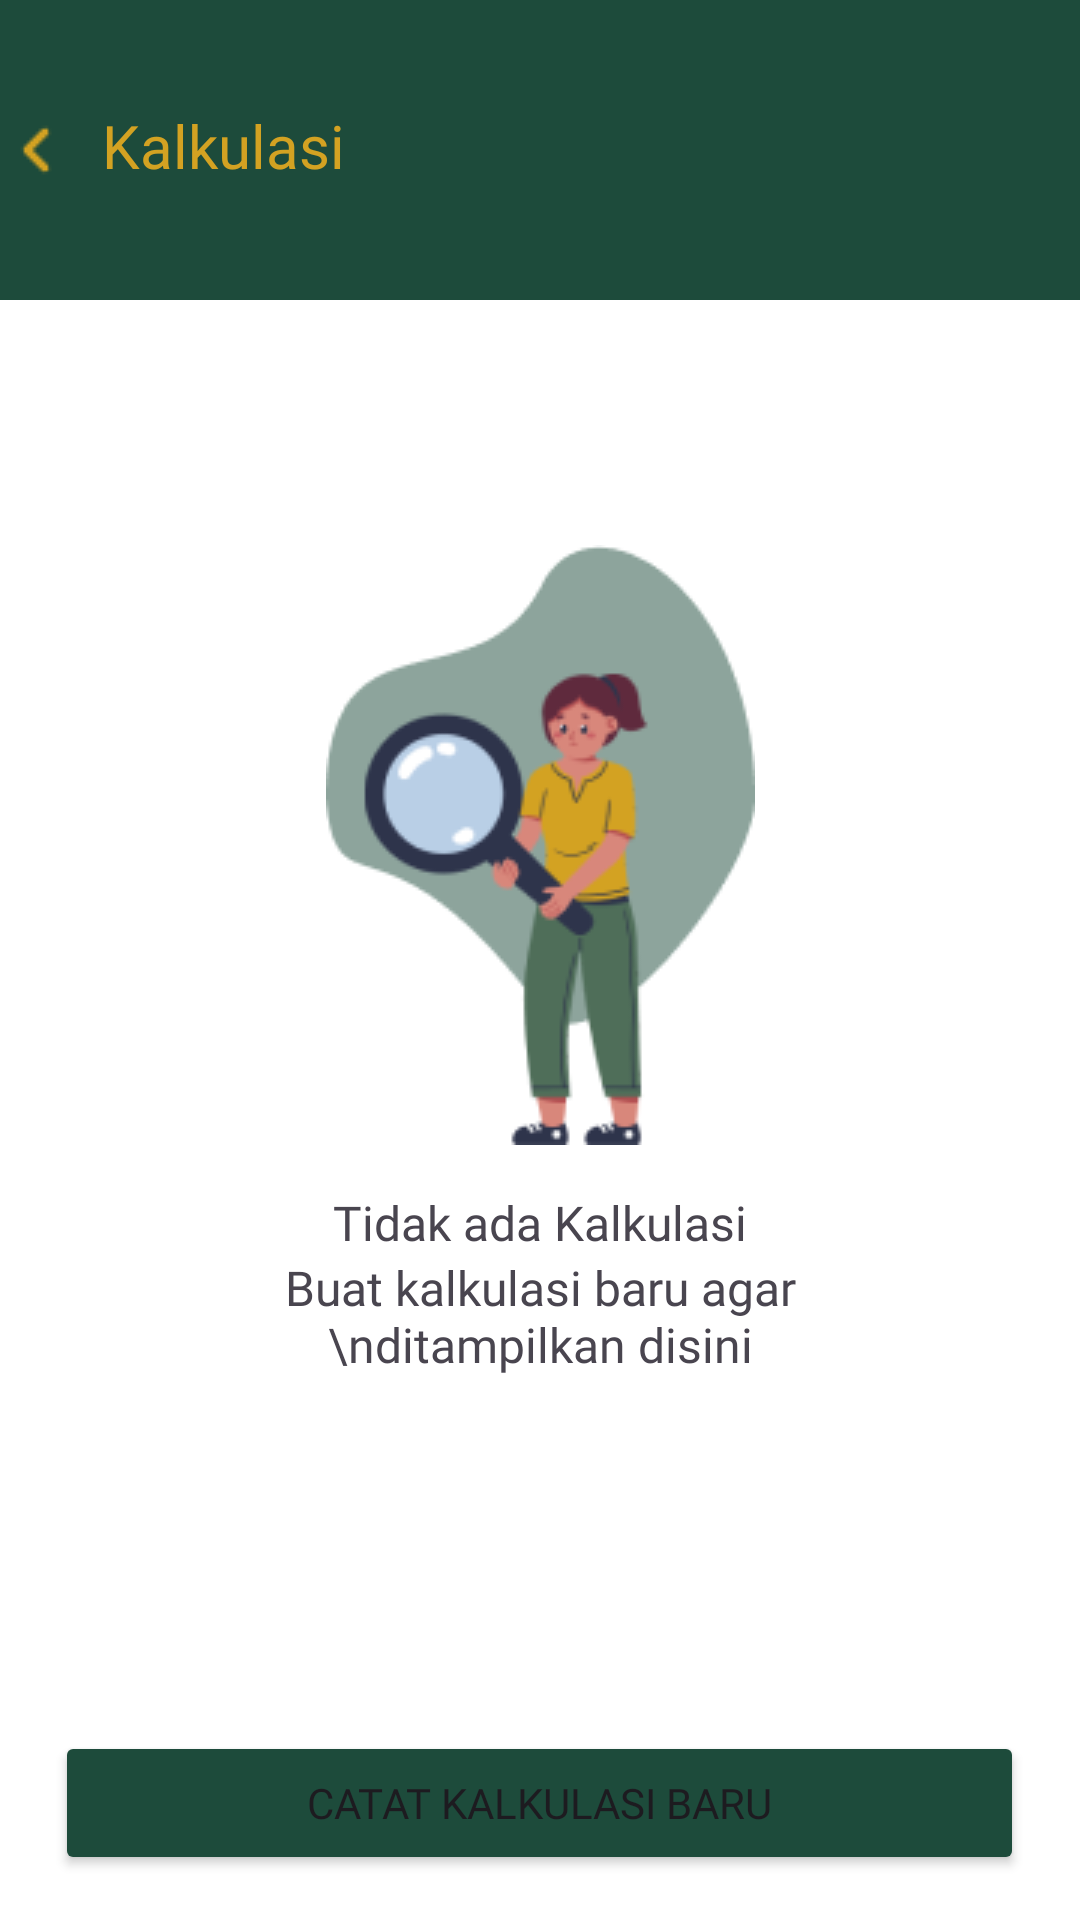

Icons on this 1080px x 1920px Android screen, each with its box as [left=x1, top=y1, right=x2, bottom=y2]:
kembali: [left=23, top=128, right=49, bottom=172]
